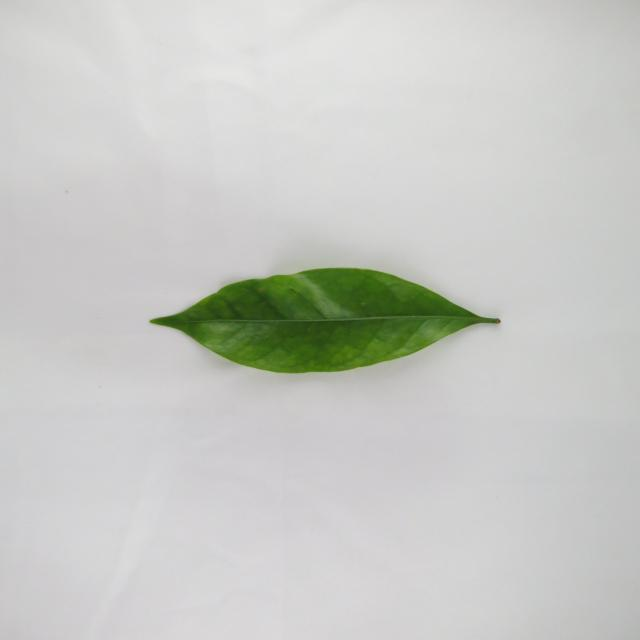DeficienciaNutricional-Manganeso: (152, 268, 500, 372)
